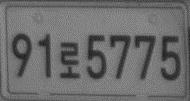1: (38, 32, 53, 79)
5: (159, 33, 183, 80), (85, 33, 108, 80)
7: (106, 33, 132, 79), (133, 33, 157, 80)
9: (10, 32, 33, 77)
로: (57, 40, 83, 79)
